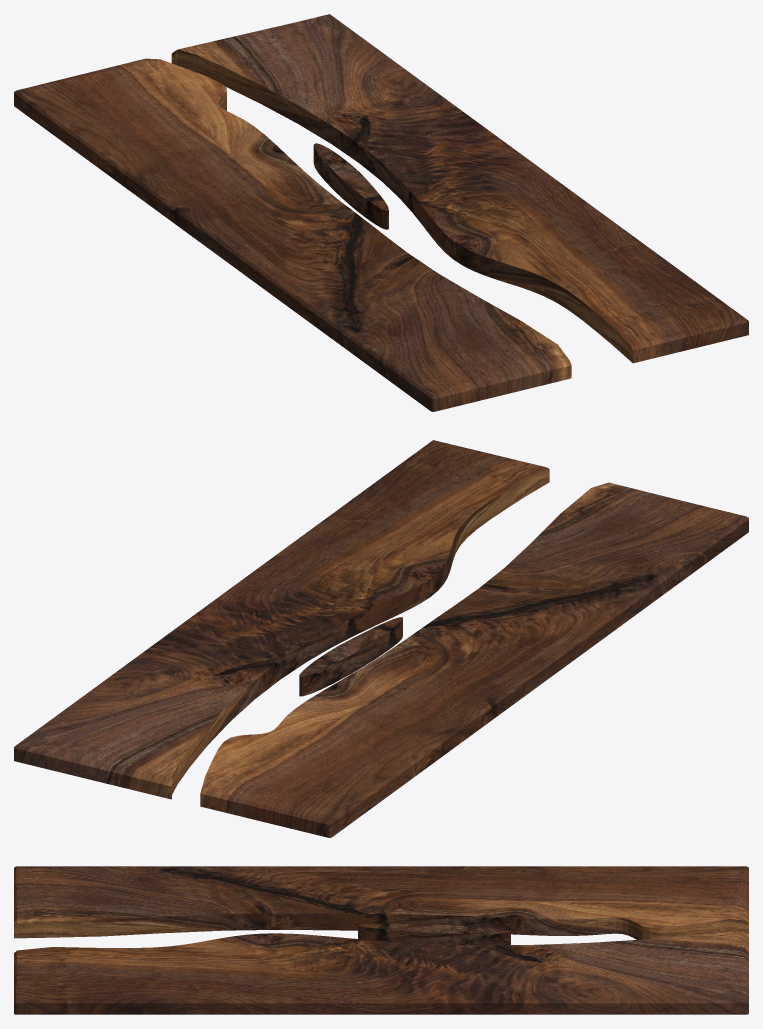
Rendered from tabletop-wood-chamfered-source.glb.
3 renders of one model, top to bottom at view 1: azimuth 30°, elevation 25°; view 2: azimuth 150°, elevation 25°; view 3: azimuth 270°, elevation 25°, orthographic. The views are drawn at different scales.
Visible parts, largest first — view 1: tabletop_wood_chamfered_source; view 2: tabletop_wood_chamfered_source; view 3: tabletop_wood_chamfered_source.
Part boxes in pixels (<box>): tabletop_wood_chamfered_source: <box>14,14,748,411</box>; tabletop_wood_chamfered_source: <box>14,440,748,837</box>; tabletop_wood_chamfered_source: <box>14,866,748,1014</box>.
Bounding box in the file's own units: 1.07 × 0.0669 × 2.44.
1 material, 1 textured.
